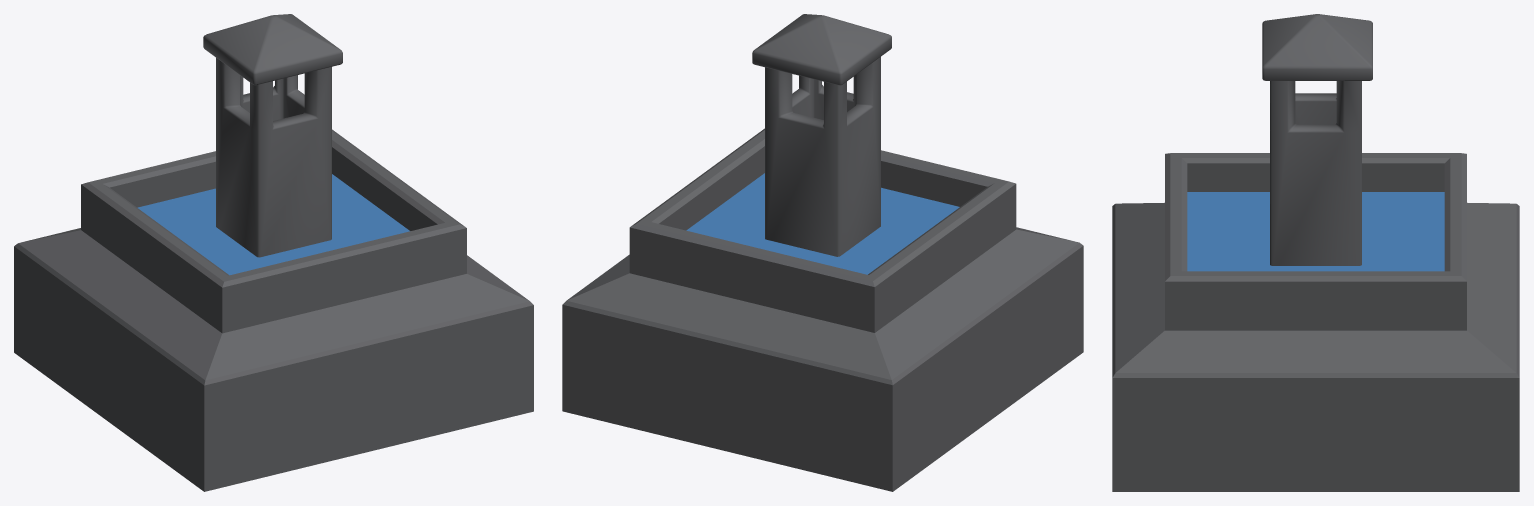
File: Fountain_1.fbx
The picture shows the model from 3 angles, left to right: view 1: azimuth 30°, elevation 25°; view 2: azimuth 150°, elevation 25°; view 3: azimuth 270°, elevation 25°; orthographic projection. The views are drawn at different scales.
Visible parts, largest first — view 1: Fountain_1; view 2: Fountain_1; view 3: Fountain_1.
Boxes of the visible parts, box(x1,y1,x2,y2) form: Fountain_1: box(14, 14, 533, 491); Fountain_1: box(562, 14, 1083, 491); Fountain_1: box(1112, 14, 1519, 491).
Size of the model in its own units: 179 by 190 by 179.
